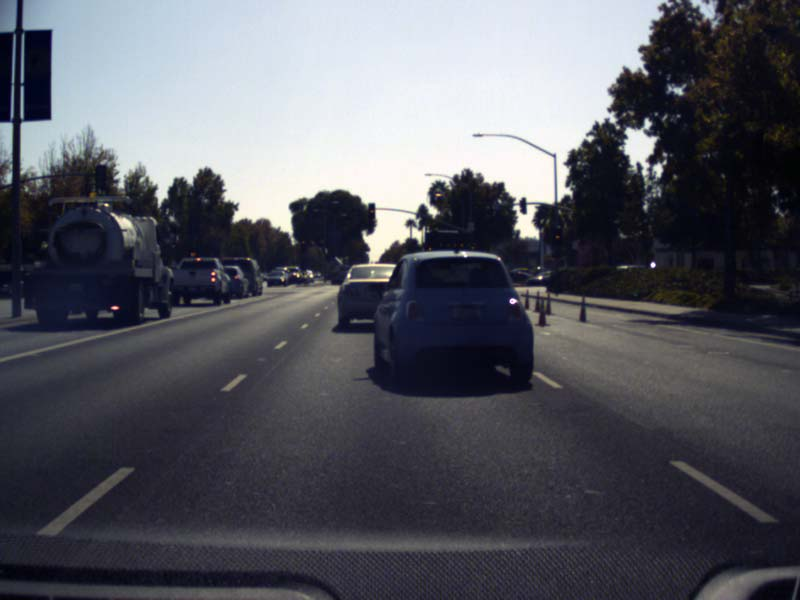Yellow: (553, 228, 561, 246), (189, 249, 197, 263), (368, 203, 374, 217)
